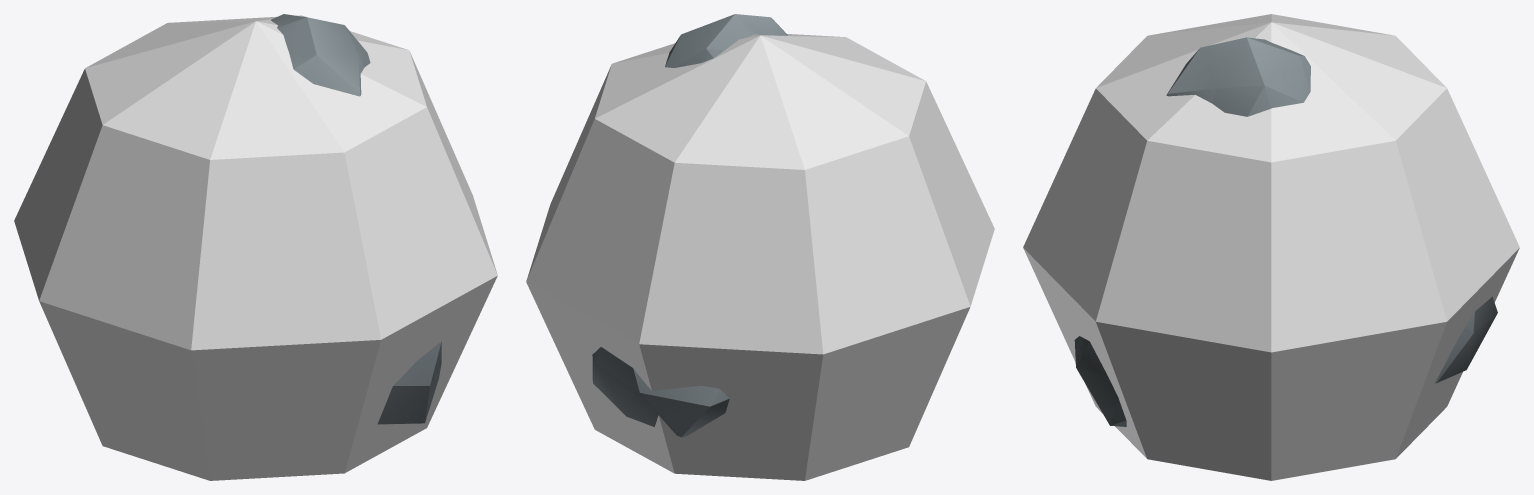
Rendered from stone_3.glb.
The picture shows the model from 3 angles, left to right: view 1: azimuth 30°, elevation 25°; view 2: azimuth 150°, elevation 25°; view 3: azimuth 270°, elevation 25°; orthographic projection. The views are drawn at different scales.
Visible parts, largest first — view 1: COL_SPHERE_00.002, Rock_3_O_Color1; view 2: COL_SPHERE_00.002, Rock_3_O_Color1; view 3: COL_SPHERE_00.002, Rock_3_O_Color1.
Boxes of the visible parts, box(x1,y1,x2,y2) form: COL_SPHERE_00.002: box(14, 15, 497, 480); Rock_3_O_Color1: box(271, 14, 441, 424); COL_SPHERE_00.002: box(526, 34, 994, 480); Rock_3_O_Color1: box(592, 14, 787, 437); COL_SPHERE_00.002: box(1023, 14, 1519, 480); Rock_3_O_Color1: box(1074, 37, 1497, 426).
Size of the model in its own units: 4.03 by 4.06 by 4.03.
1 material, 1 textured.
